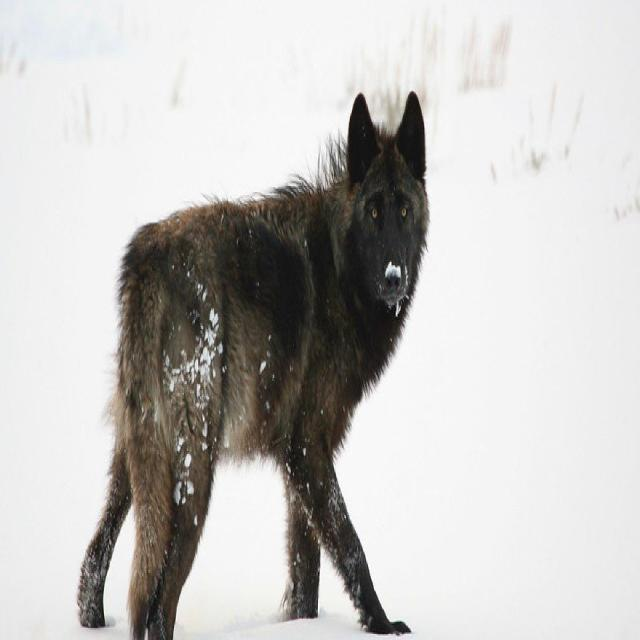wolf: (78, 92, 429, 639)
